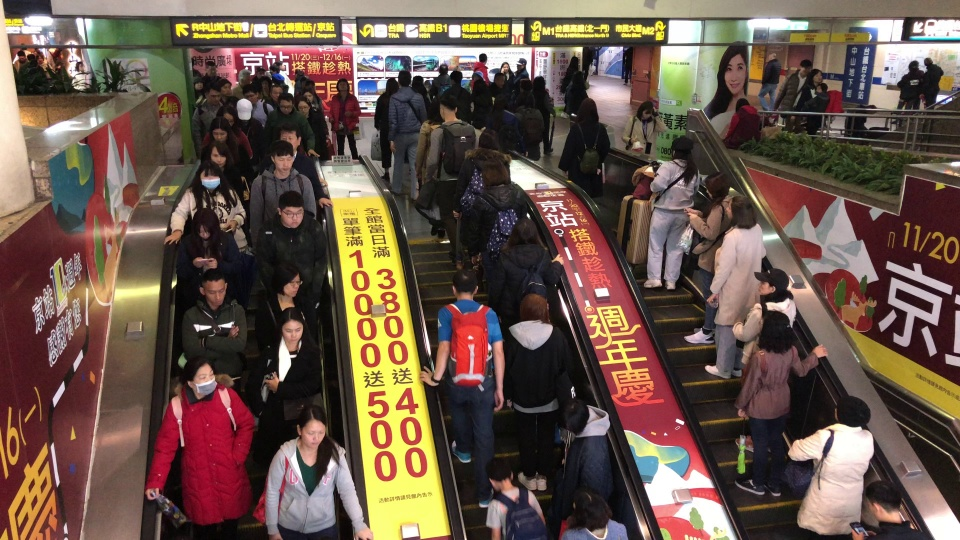person_head: (567, 485, 611, 528), (755, 310, 795, 352), (180, 355, 218, 394), (295, 403, 328, 447), (865, 479, 904, 515), (556, 397, 590, 435), (833, 394, 872, 425), (198, 267, 227, 305), (277, 190, 304, 229), (273, 262, 302, 298), (508, 216, 541, 247), (484, 457, 513, 492), (191, 207, 221, 239), (757, 266, 789, 295), (519, 292, 549, 322), (280, 307, 305, 342), (196, 160, 224, 191), (704, 170, 731, 201), (480, 157, 509, 185), (725, 194, 753, 222), (278, 121, 301, 154), (451, 269, 479, 296), (270, 141, 293, 173), (205, 140, 232, 166), (208, 116, 231, 142), (577, 97, 599, 121), (670, 137, 694, 159), (477, 128, 500, 149), (439, 95, 458, 120), (236, 98, 253, 121), (276, 92, 294, 113), (218, 105, 235, 127), (204, 82, 220, 105), (424, 100, 440, 120), (217, 78, 233, 96), (637, 100, 653, 117), (242, 82, 257, 100), (472, 79, 487, 95), (517, 92, 533, 107), (296, 96, 310, 113), (398, 69, 411, 87), (384, 76, 398, 92), (493, 94, 508, 108), (449, 69, 462, 85), (735, 97, 749, 111), (259, 75, 272, 90), (335, 77, 350, 90), (238, 68, 250, 84), (519, 78, 532, 92), (493, 71, 505, 86), (533, 75, 545, 90), (799, 58, 811, 73), (571, 70, 584, 83), (810, 68, 822, 82), (302, 88, 313, 103), (814, 82, 829, 93), (193, 76, 203, 92), (205, 62, 216, 75), (412, 75, 424, 86), (472, 70, 484, 81), (478, 52, 488, 65), (272, 74, 283, 85), (268, 64, 280, 74), (515, 58, 527, 68), (256, 65, 265, 78), (306, 79, 315, 92), (438, 63, 449, 73), (908, 60, 919, 70), (569, 56, 579, 66), (500, 61, 509, 72), (16, 50, 25, 60), (277, 60, 287, 69), (924, 56, 933, 65), (75, 62, 83, 72), (294, 68, 304, 76), (27, 53, 36, 60), (767, 52, 776, 59), (36, 54, 42, 62)
person_vbox: (417, 269, 506, 510), (142, 356, 256, 540), (733, 310, 828, 498), (265, 403, 374, 540), (503, 292, 574, 490), (784, 393, 873, 538), (732, 267, 797, 455), (704, 194, 766, 379), (545, 396, 614, 537), (452, 127, 510, 292), (255, 190, 328, 317), (680, 170, 732, 346), (425, 95, 480, 259), (643, 137, 701, 292), (255, 306, 323, 435), (487, 216, 564, 324), (248, 141, 317, 257), (162, 160, 247, 253), (181, 267, 248, 377), (467, 157, 527, 267), (259, 120, 333, 209), (258, 262, 320, 357), (557, 97, 611, 198), (175, 206, 243, 286), (483, 456, 547, 539), (386, 70, 426, 200), (851, 478, 929, 540), (264, 92, 320, 159), (201, 116, 253, 188), (561, 485, 629, 539), (195, 140, 245, 203), (201, 104, 254, 160), (773, 58, 812, 131), (328, 77, 362, 159), (487, 94, 529, 159), (621, 99, 668, 156), (374, 76, 399, 182), (413, 99, 440, 185), (190, 82, 220, 157), (721, 96, 763, 149), (296, 96, 328, 160), (235, 98, 263, 171), (515, 91, 544, 161), (532, 75, 557, 156), (790, 67, 822, 121), (440, 69, 473, 121), (897, 60, 923, 119), (801, 82, 829, 135), (757, 51, 781, 112), (241, 82, 272, 124), (563, 70, 590, 117), (559, 55, 579, 117), (469, 80, 493, 127), (922, 57, 943, 109), (428, 63, 452, 96), (470, 52, 489, 90), (514, 79, 536, 108), (411, 75, 430, 106), (232, 68, 251, 97), (622, 46, 633, 85), (490, 72, 509, 93), (204, 62, 220, 84), (583, 47, 593, 81), (515, 57, 529, 81), (294, 68, 305, 96), (36, 55, 52, 74), (73, 62, 84, 89), (500, 61, 514, 81), (13, 50, 25, 71), (270, 84, 283, 101)
